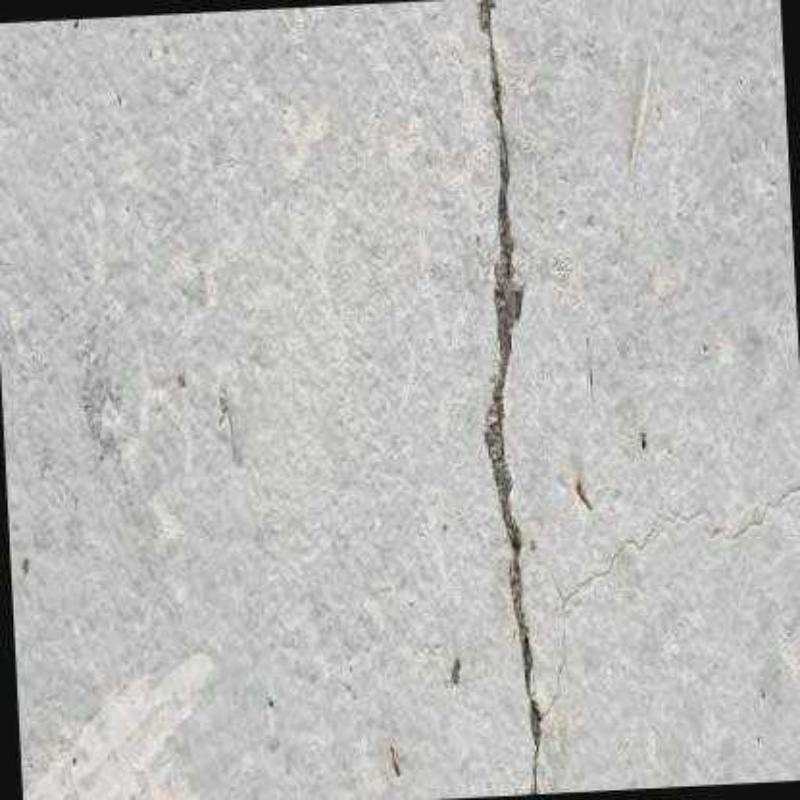crack: (540, 485, 798, 715), (474, 0, 545, 794)
